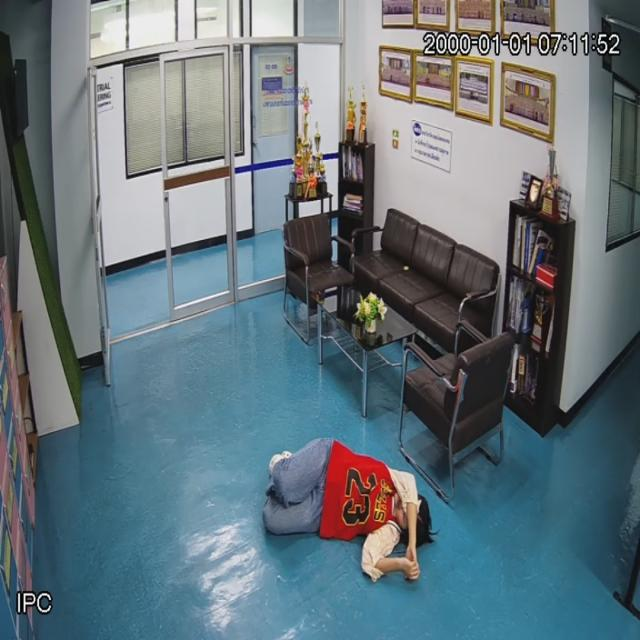fall: (266, 441, 431, 581)
